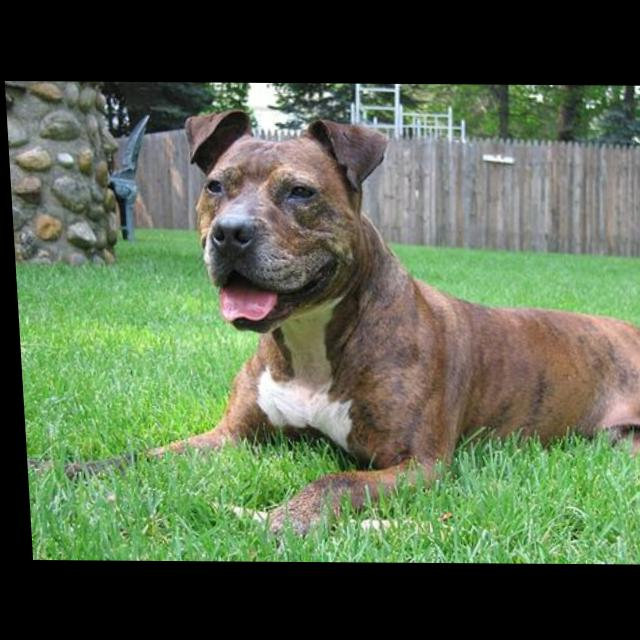amstaff: (8, 106, 640, 546)
